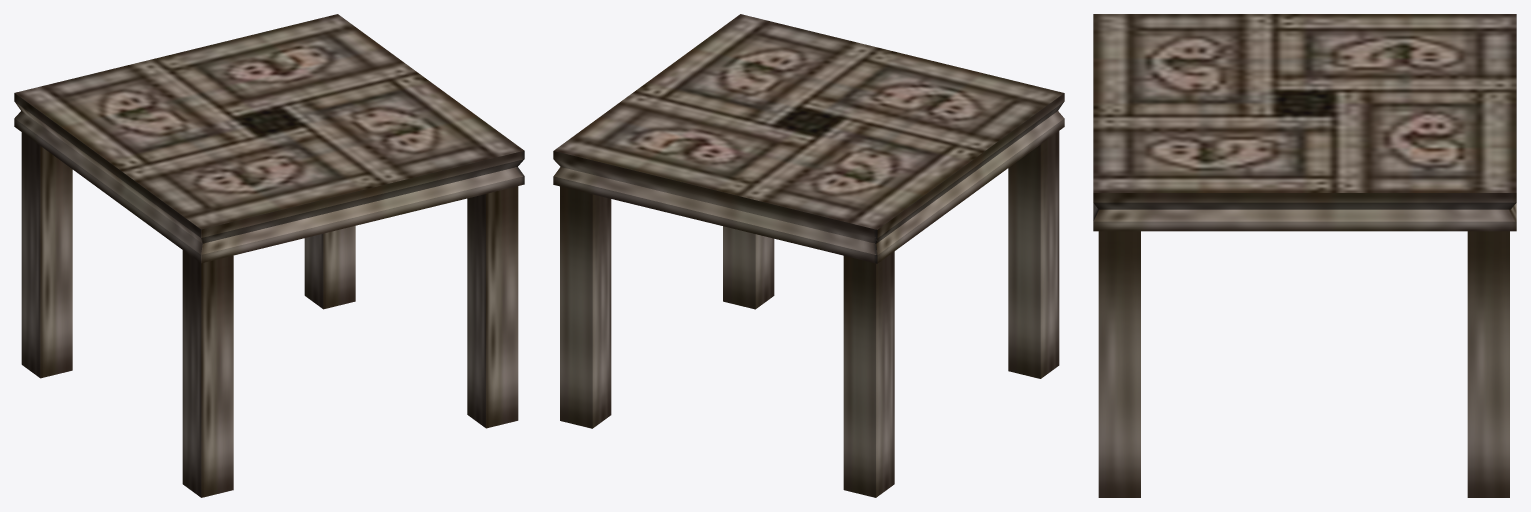
Rendered from table01.fbx.
The picture shows the model from 3 angles, left to right: view 1: azimuth 30°, elevation 25°; view 2: azimuth 150°, elevation 25°; view 3: azimuth 270°, elevation 25°; orthographic projection. The views are drawn at different scales.
Parts seen in each view (by area): view 1: Cube.004; view 2: Cube.004; view 3: Cube.004.
Boxes of the visible parts, x1,y1,x2,y2 form: Cube.004: (14, 14, 524, 497); Cube.004: (553, 14, 1064, 497); Cube.004: (1093, 14, 1516, 497).
Bounding box in the file's own units: 200 × 160 × 200.
2 materials, 2 textured.
